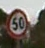limite 50: (5, 8, 29, 39)
